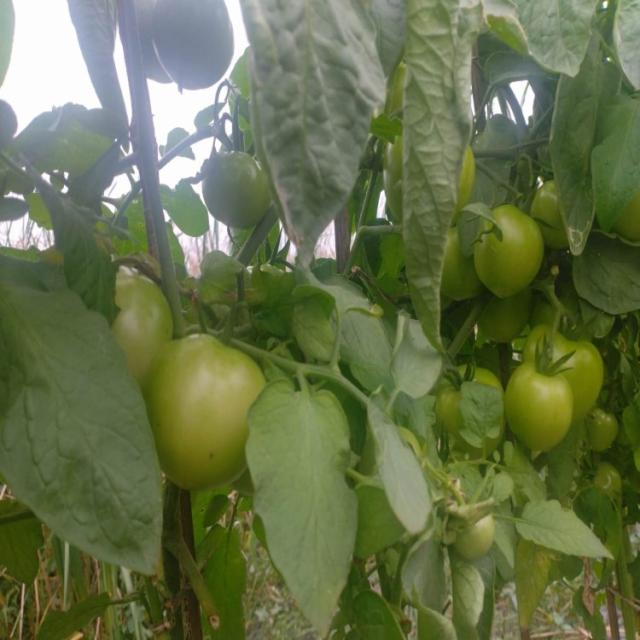tomato: (129, 319, 292, 501), (508, 312, 631, 432), (492, 355, 585, 464), (189, 140, 293, 235), (102, 256, 181, 369), (457, 190, 536, 299), (443, 347, 501, 427), (527, 166, 566, 251)
